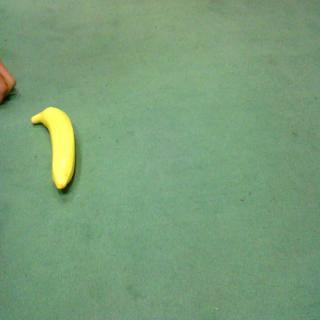banana: (30, 97, 82, 195)
